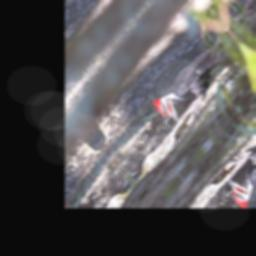Woodpecker: (151, 24, 250, 142)
